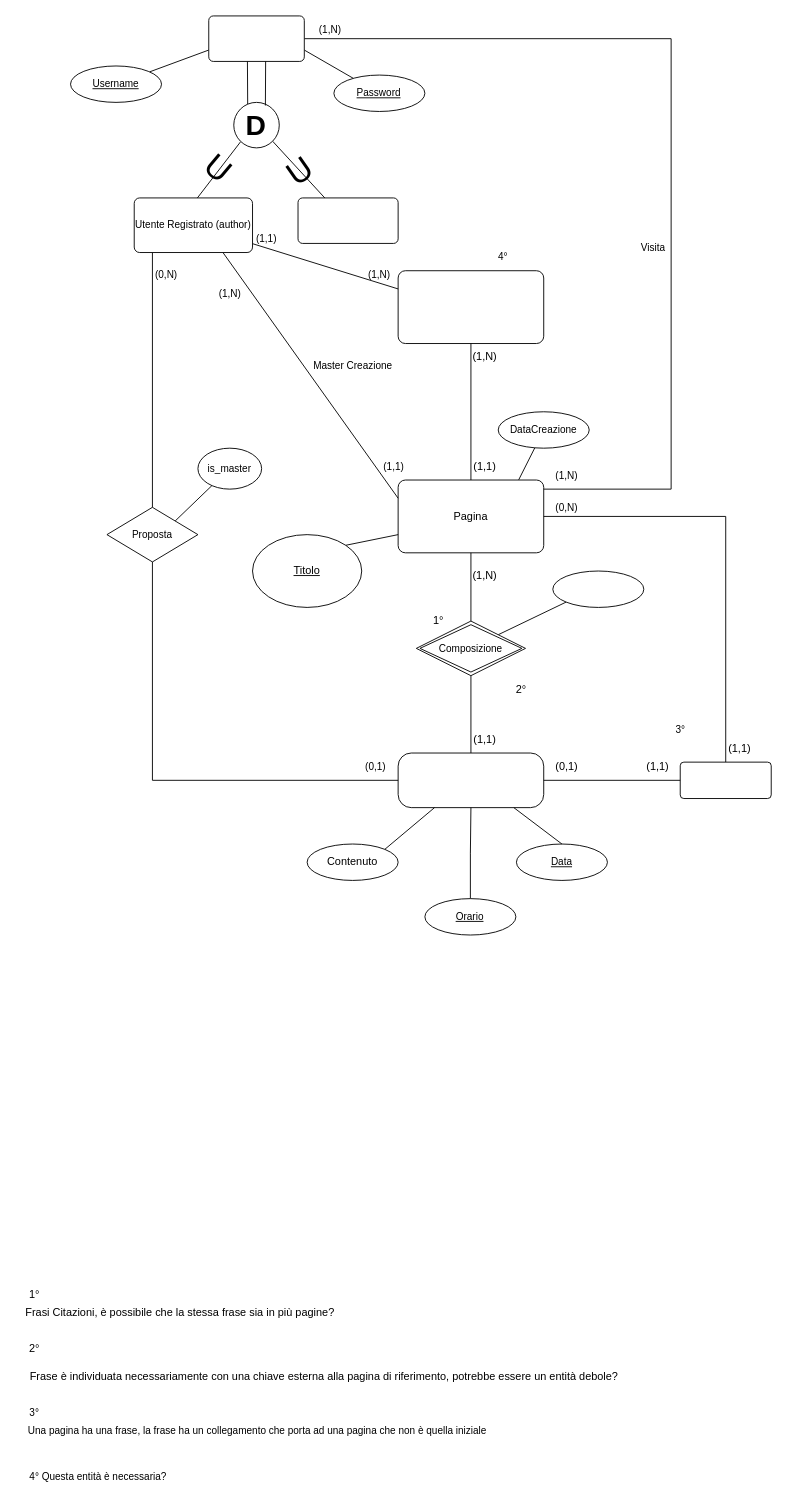
Image size: 787x1506. Some labels were removed from this diagram. The shapes that lost their labels are listed below. From the top down, each one's centre as x and y in pixels, then its label:
At point 256,38: "Utente".
At point 347,220: "Visitatore".
At point 470,307: "BadWiki".
At point 598,588: "Posizione".
At point 470,780: "Frase".
At point 725,780: "Collegamento".
